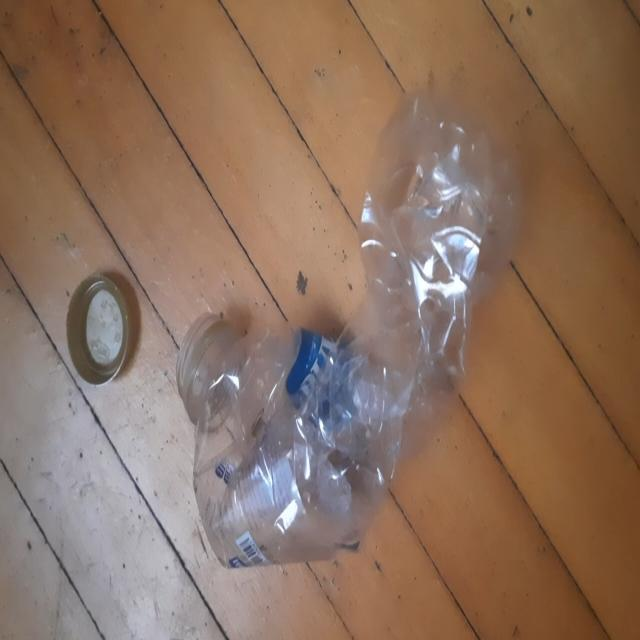Plastic: (186, 86, 520, 570)
